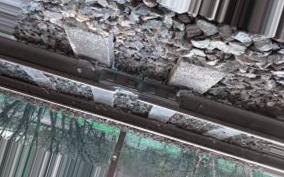tracks_fault: (91, 57, 194, 111)
